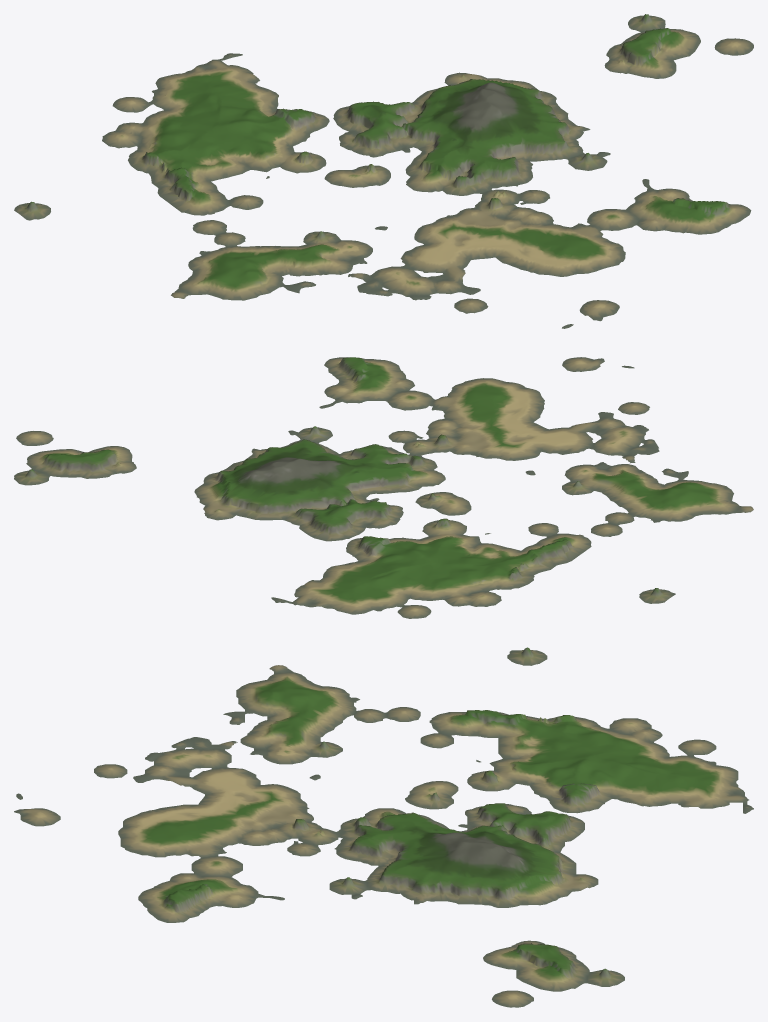
Rendered from arch_islands_lod1.glb.
The picture shows the model from 3 angles, top to bottom: view 1: azimuth 30°, elevation 25°; view 2: azimuth 150°, elevation 25°; view 3: azimuth 270°, elevation 25°; orthographic projection. The views are drawn at different scales.
Parts seen in each view (by area): view 1: arch_islands_lod1; view 2: arch_islands_lod1; view 3: arch_islands_lod1.
Boxes of the visible parts, x1,y1,x2,y2 form: arch_islands_lod1: [14, 14, 753, 328]; arch_islands_lod1: [14, 357, 753, 618]; arch_islands_lod1: [14, 647, 753, 1007].
Size of the model in its own units: 2280 by 78.03 by 1998.
